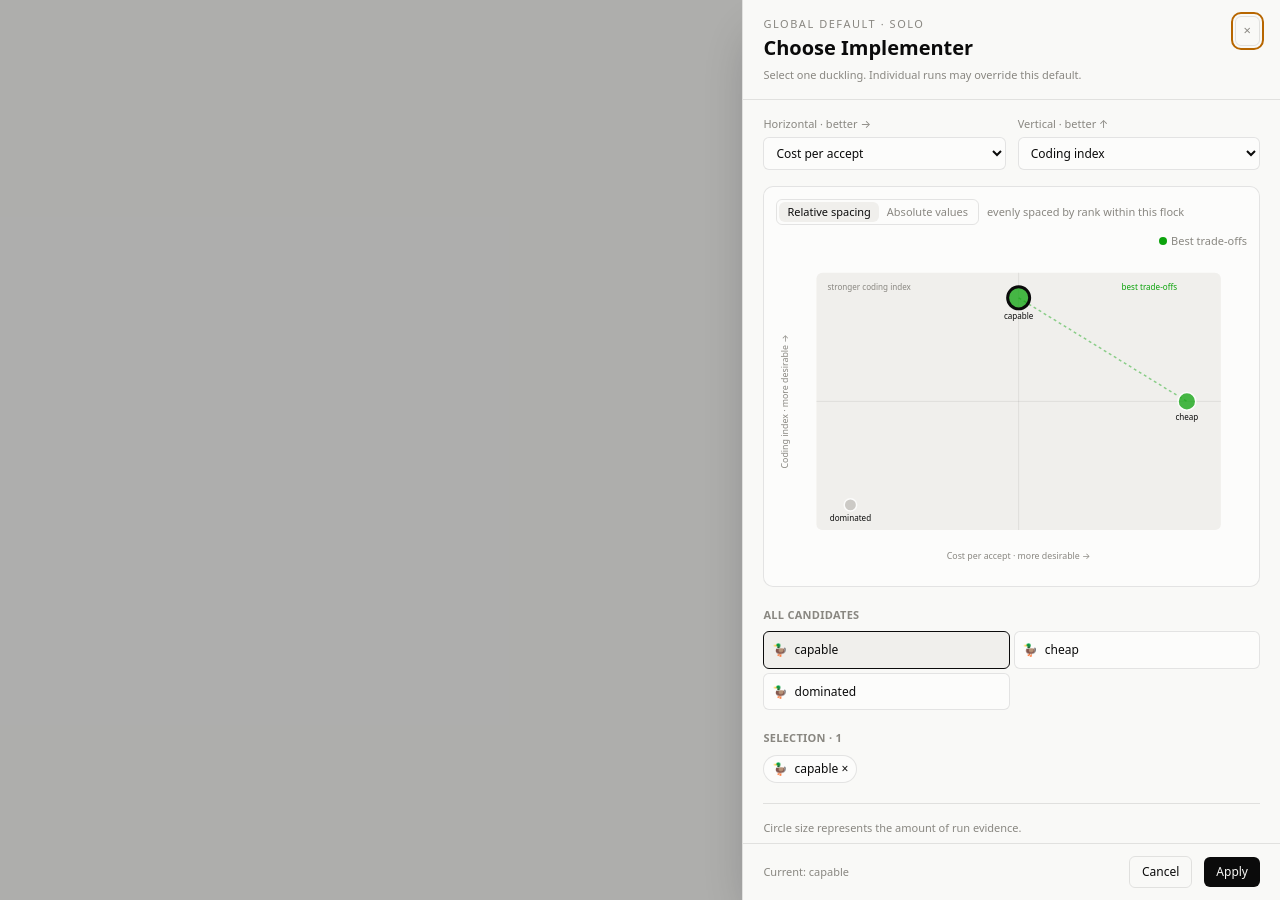
Test case: duckling map › lets the operator switch between relative spacing and absolute values
Expected: the text "evenly spaced by rank within this flock" is shown, top-left (987, 204), bottom-right (1184, 220)
Click the button "Absolute values": (927,212) top-left (879, 202), bottom-right (976, 222)
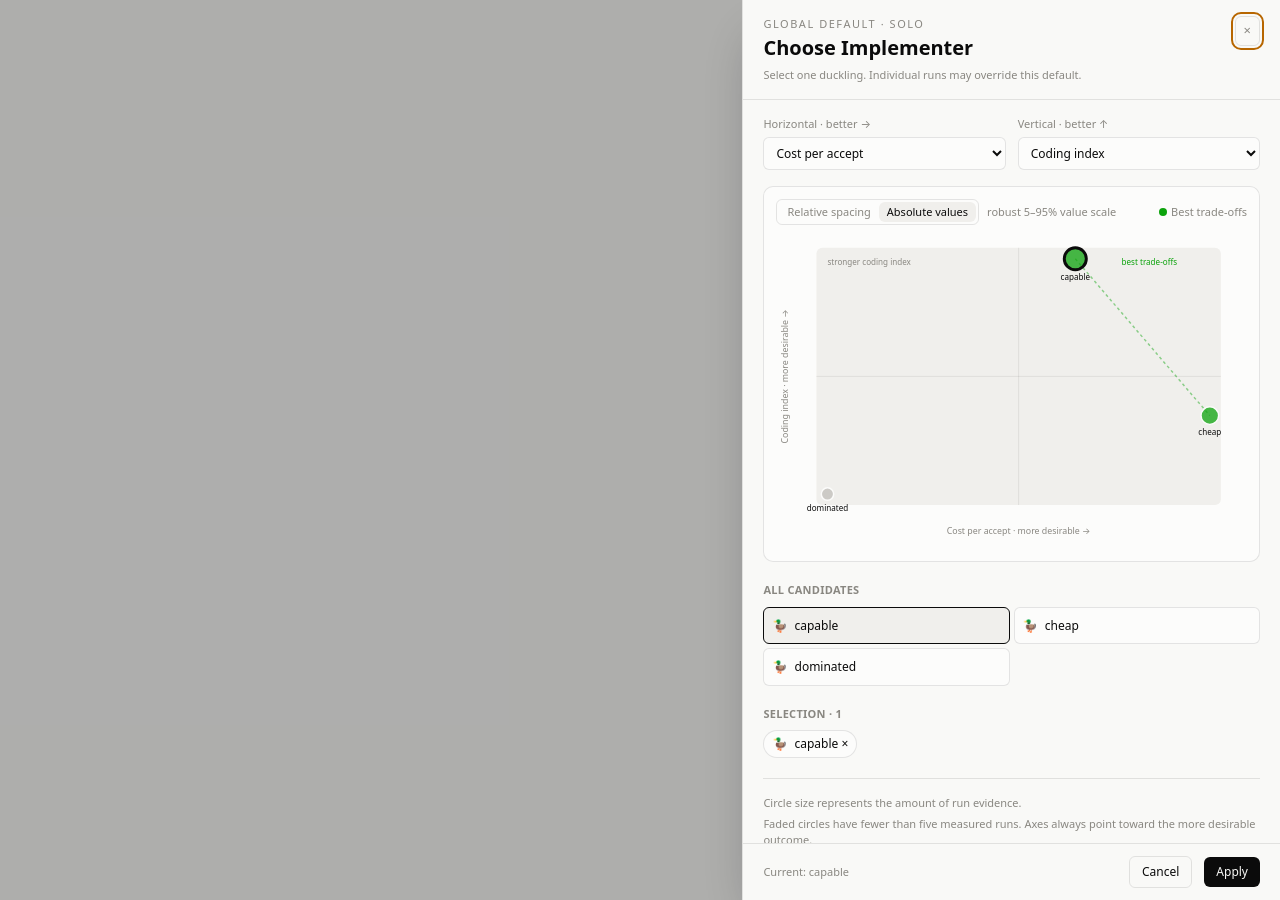
Now the text "robust 5–95% value scale" is shown, box top-left (987, 204), bottom-right (1116, 220)
